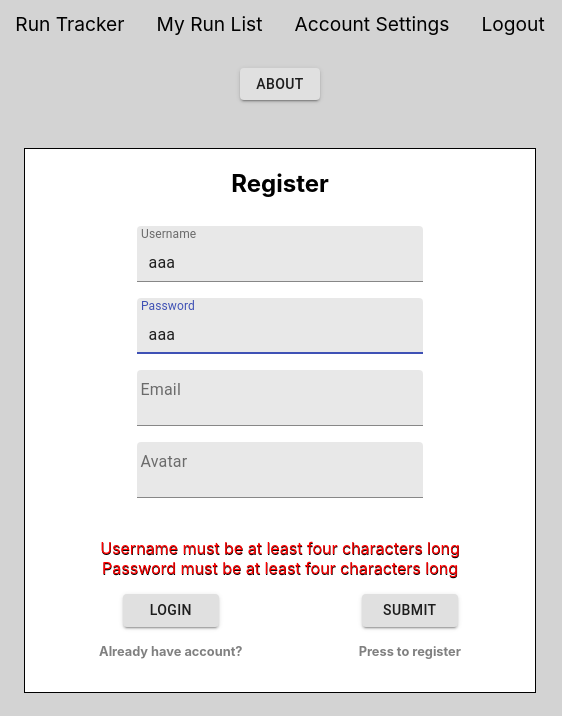
it: Registration errors › Show email error
Type "email" into the field named "email" next to "Email" at (281,398), box [137,370,424,426]
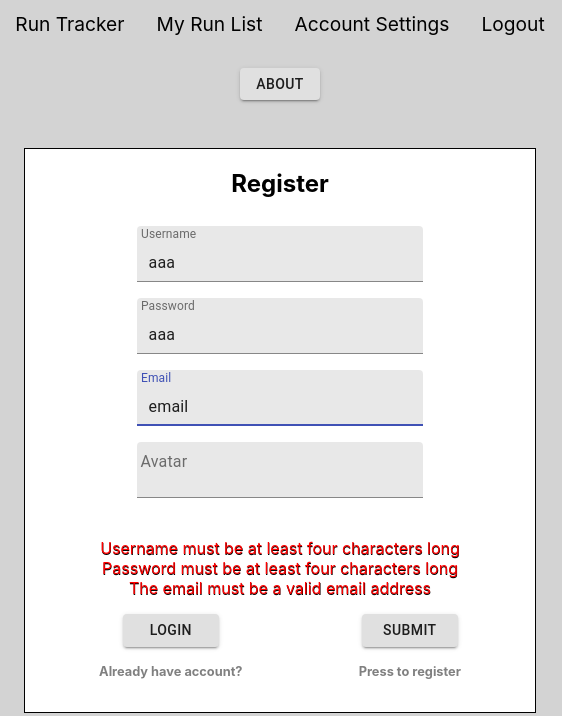
Expected: the text "The email must be a valid email address" is shown, [129,578,431,598]
